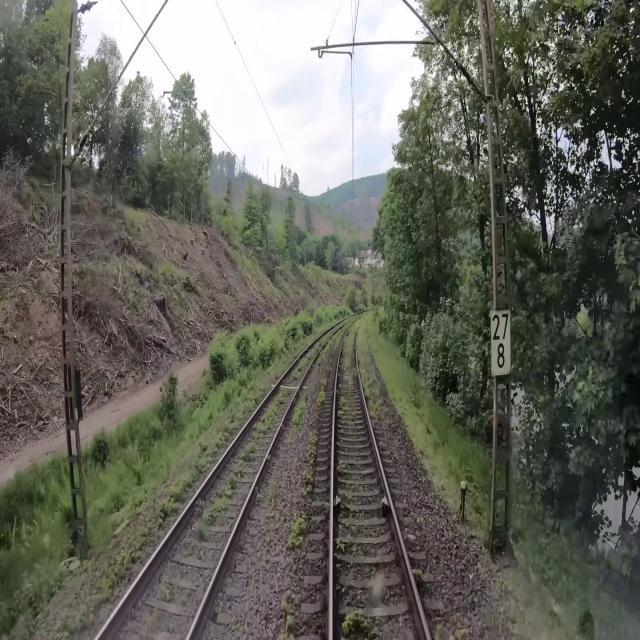Plant: (155, 384, 266, 527), (191, 387, 292, 541), (45, 521, 152, 638), (356, 314, 386, 423), (302, 429, 319, 501), (342, 613, 380, 638), (281, 588, 300, 636), (287, 508, 308, 550), (290, 391, 307, 428), (317, 365, 330, 407), (411, 567, 431, 589), (269, 480, 279, 503), (325, 501, 330, 516)
